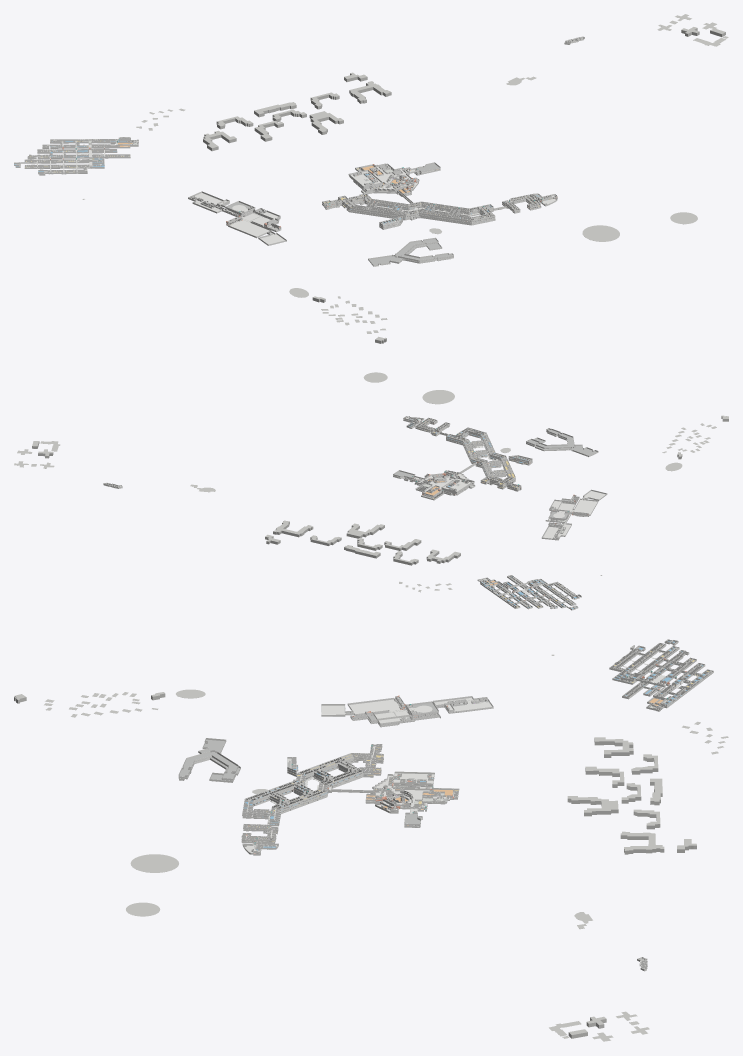
The model's file is stirling_campus.glb.
3 renders of one model, top to bottom at view 1: azimuth 30°, elevation 25°; view 2: azimuth 150°, elevation 25°; view 3: azimuth 270°, elevation 25°, orthographic. The views are drawn at different scales.
Visible parts, largest first — view 1: B_Pathfoot_Building_L1_walls, B_Cottrell_Building_L4_walls, B_Cottrell_Building_L3_walls, B_Sports_Center_L1_walls, B_Cottrell_Building_L2_walls; view 2: B_Pathfoot_Building_L1_walls, B_Cottrell_Building_L4_walls, B_Cottrell_Building_L3_walls, B_Sports_Center_L1_walls, B_Cottrell_Building_L2_walls; view 3: B_Pathfoot_Building_L1_walls, B_Cottrell_Building_L4_walls, B_Cottrell_Building_L3_walls, B_Sports_Center_L1_walls, B_Cottrell_Building_L2_walls, out_1002292469, B_Andrew_Miller_L2_walls, out_1002292383.
Boxes of the visible parts, x1,y1,x2,y2 form: B_Pathfoot_Building_L1_walls: (14, 139, 138, 175); B_Cottrell_Building_L4_walls: (322, 195, 495, 221); B_Cottrell_Building_L3_walls: (322, 193, 495, 223); B_Sports_Center_L1_walls: (188, 191, 286, 245); B_Cottrell_Building_L2_walls: (323, 190, 495, 225); B_Pathfoot_Building_L1_walls: (477, 575, 581, 610); B_Cottrell_Building_L4_walls: (455, 427, 521, 489); B_Cottrell_Building_L3_walls: (446, 432, 521, 490); B_Sports_Center_L1_walls: (541, 489, 607, 540); B_Cottrell_Building_L2_walls: (446, 433, 521, 491); B_Pathfoot_Building_L1_walls: (609, 639, 713, 711); B_Cottrell_Building_L4_walls: (242, 744, 383, 814); B_Cottrell_Building_L3_walls: (242, 747, 382, 821); B_Sports_Center_L1_walls: (321, 696, 493, 727); B_Cottrell_Building_L2_walls: (242, 752, 383, 823); out_1002292469: (130, 854, 178, 872); B_Andrew_Miller_L2_walls: (373, 776, 453, 808); out_1002292383: (567, 796, 618, 816).
Size of the model in its own units: 1391 by 17.4 by 1055.
